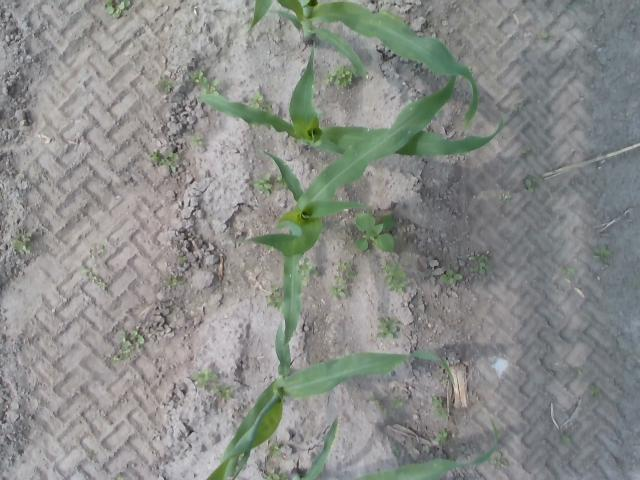Maize: (204, 232, 454, 480), (231, 74, 456, 253), (196, 42, 502, 156), (247, 0, 480, 126), (292, 417, 508, 480)
Weeds: (350, 214, 398, 252), (382, 259, 407, 293), (334, 260, 350, 301), (328, 67, 353, 87), (190, 368, 218, 384), (190, 74, 214, 92), (377, 317, 398, 337), (255, 174, 273, 197), (108, 1, 130, 19), (300, 262, 318, 284), (122, 332, 146, 348), (472, 253, 488, 275), (156, 75, 174, 94), (442, 269, 464, 283), (248, 90, 264, 108), (266, 288, 281, 307), (594, 244, 610, 260), (14, 236, 32, 248), (216, 385, 232, 398), (264, 467, 280, 480), (163, 153, 180, 165), (434, 428, 448, 441), (264, 444, 280, 455), (434, 395, 446, 408), (493, 454, 506, 466), (151, 151, 162, 164), (167, 279, 184, 287), (525, 178, 534, 192), (192, 136, 202, 146), (392, 399, 402, 408), (590, 385, 598, 396), (562, 432, 570, 443)
